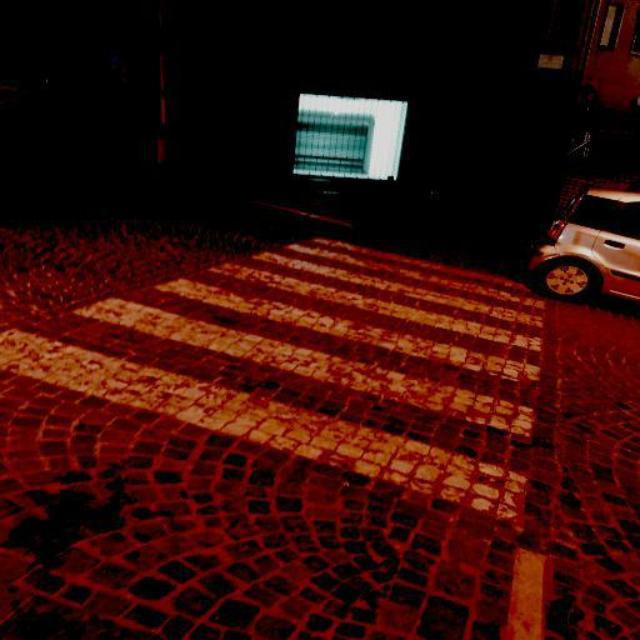sidewalk: (0, 235, 546, 551)
